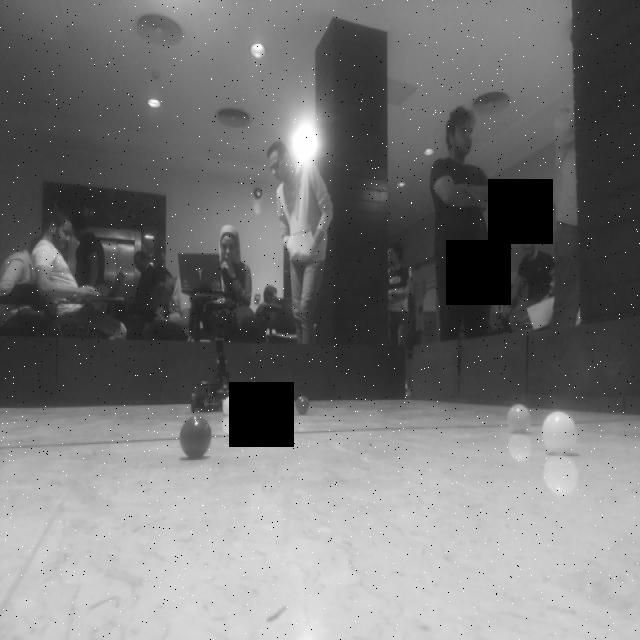ball: (540, 406, 578, 459), (180, 412, 214, 463), (504, 402, 532, 438), (219, 394, 241, 419), (291, 393, 313, 418)
